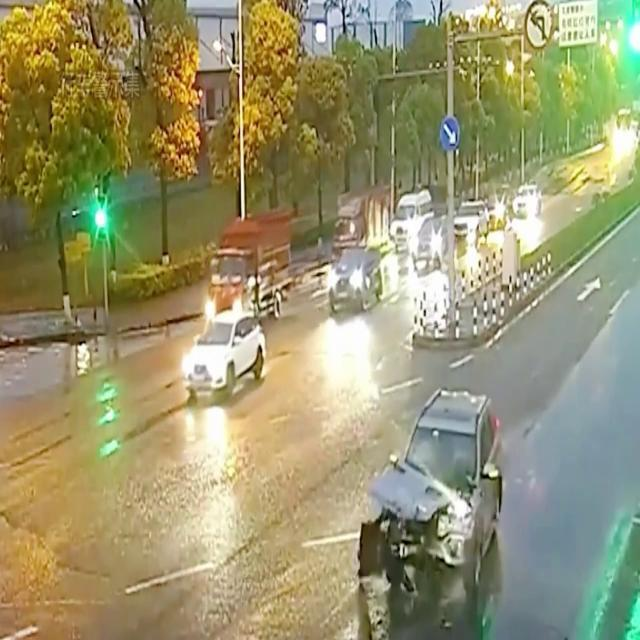accident: (357, 390, 507, 640)
non-accident: (183, 206, 293, 404), (329, 185, 393, 315), (396, 188, 452, 274)
